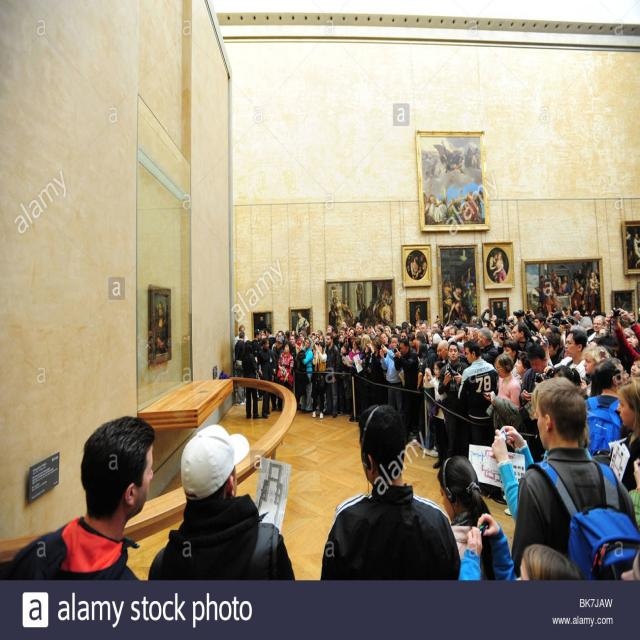body: (508, 374, 640, 580), (0, 413, 158, 581), (319, 402, 462, 581), (146, 422, 298, 582), (489, 415, 595, 544), (458, 512, 588, 582), (436, 454, 496, 580), (481, 352, 523, 505), (515, 266, 601, 330), (420, 135, 484, 221), (518, 341, 558, 464), (584, 356, 630, 460), (604, 456, 640, 584), (458, 340, 498, 448), (604, 376, 640, 494), (600, 291, 640, 378), (325, 282, 393, 333), (392, 337, 420, 443), (440, 267, 479, 343), (541, 327, 589, 382), (422, 360, 448, 460), (420, 332, 442, 448), (379, 335, 404, 423), (578, 344, 612, 401), (437, 340, 470, 397), (241, 338, 263, 419), (394, 305, 441, 340), (256, 337, 276, 419), (323, 331, 341, 419), (481, 299, 514, 345), (416, 342, 430, 446), (311, 340, 328, 420), (297, 336, 314, 415), (369, 336, 387, 408), (270, 336, 285, 413), (502, 337, 524, 385), (378, 332, 392, 406), (477, 326, 500, 370), (153, 300, 170, 359), (234, 330, 246, 407), (548, 364, 584, 387), (276, 341, 294, 386), (511, 320, 535, 352), (543, 329, 563, 366), (514, 350, 533, 388), (487, 249, 506, 284), (586, 314, 606, 347), (405, 251, 427, 279), (359, 333, 372, 379), (287, 311, 309, 338), (626, 228, 640, 268), (250, 328, 262, 374), (359, 336, 374, 372), (348, 337, 364, 369), (481, 307, 499, 332), (288, 333, 302, 361), (436, 339, 451, 365), (234, 324, 249, 345), (257, 314, 267, 342), (265, 328, 277, 350), (369, 324, 385, 339), (563, 330, 571, 360), (345, 326, 356, 346), (356, 324, 366, 346), (331, 326, 340, 348), (252, 343, 260, 366), (309, 329, 323, 342), (318, 334, 327, 352), (296, 332, 306, 348), (458, 248, 471, 260), (271, 333, 279, 352), (408, 340, 420, 352), (336, 332, 346, 344), (340, 343, 350, 355), (434, 346, 441, 358), (277, 330, 285, 340), (301, 340, 305, 347)
